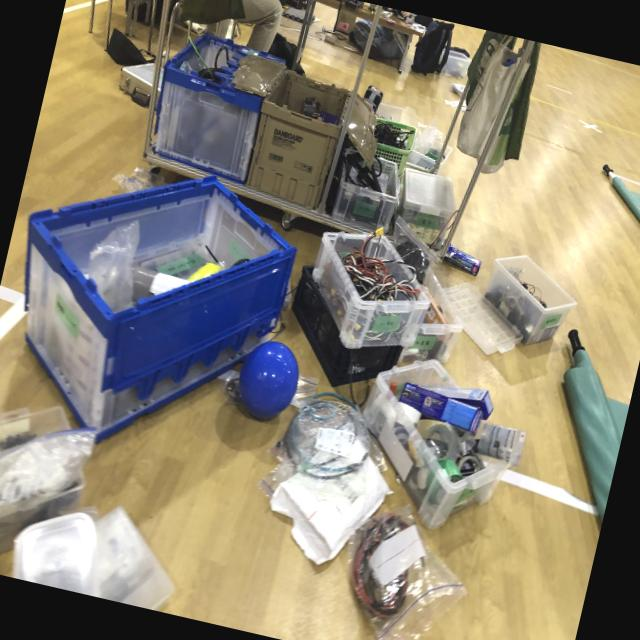blue_ball: (228, 334, 305, 424)
